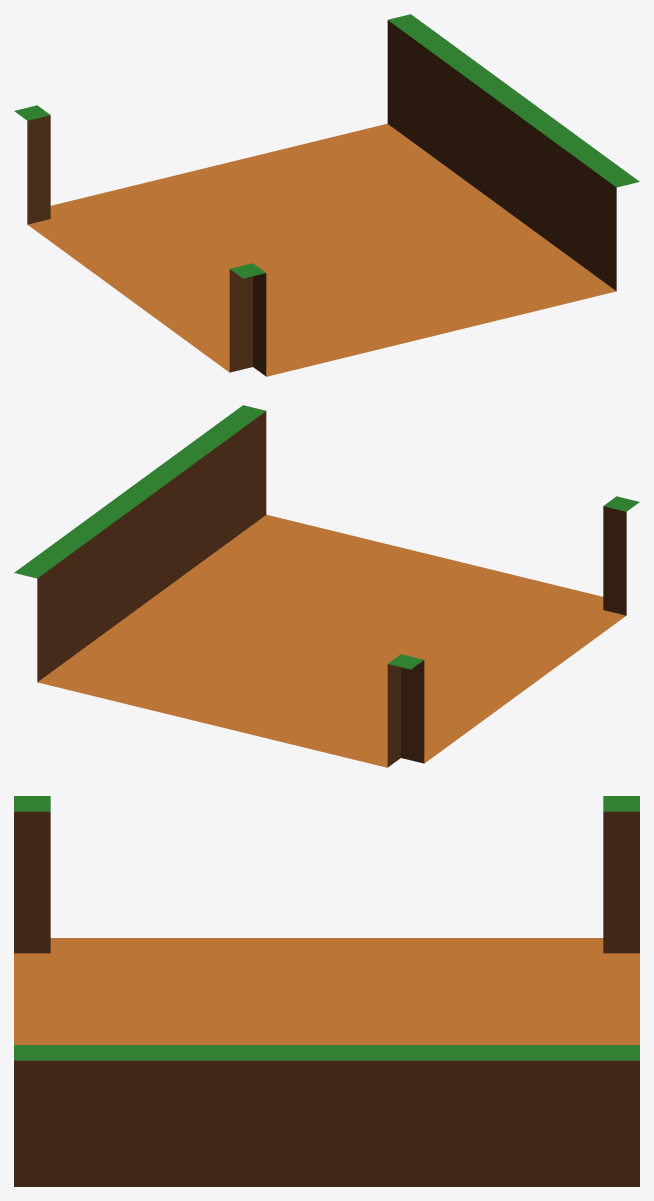
File: Path_3_Way.fbx
3 renders of one model, top to bottom at view 1: azimuth 30°, elevation 25°; view 2: azimuth 150°, elevation 25°; view 3: azimuth 270°, elevation 25°, orthographic. The views are drawn at different scales.
Visible parts, largest first — view 1: Path_3_Way; view 2: Path_3_Way; view 3: Path_3_Way.
Part boxes in pixels (box(x1,y1,x2,y2)): Path_3_Way: box(14, 14, 639, 376); Path_3_Way: box(14, 405, 639, 767); Path_3_Way: box(14, 796, 639, 1186).
Bounding box in the file's own units: 200 × 50 × 200.
